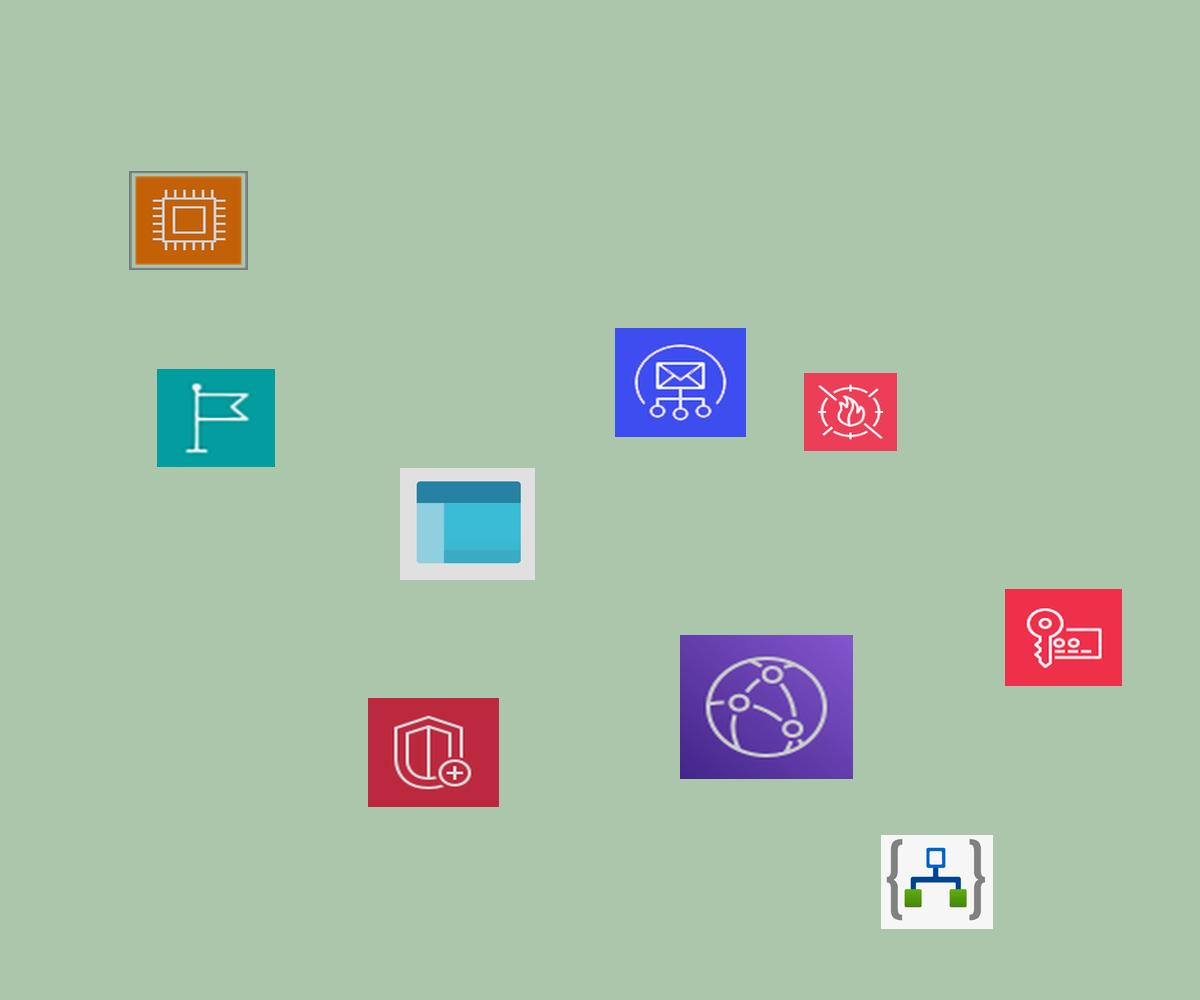AWS-Category_Compute: (129, 171, 248, 270)
AWS-CloudFront: (680, 635, 853, 779)
AWS-Key-Management-Service: (1005, 589, 1122, 686)
AWS-Region: (157, 369, 275, 467)
AWS-Shield: (368, 698, 499, 807)
AWS-Simple-Email-Service: (615, 328, 746, 437)
AWS-WAF: (804, 373, 897, 451)
Azure_integration-204-Logic-Apps: (881, 835, 993, 929)
Azure_management-portal: (400, 468, 535, 580)
